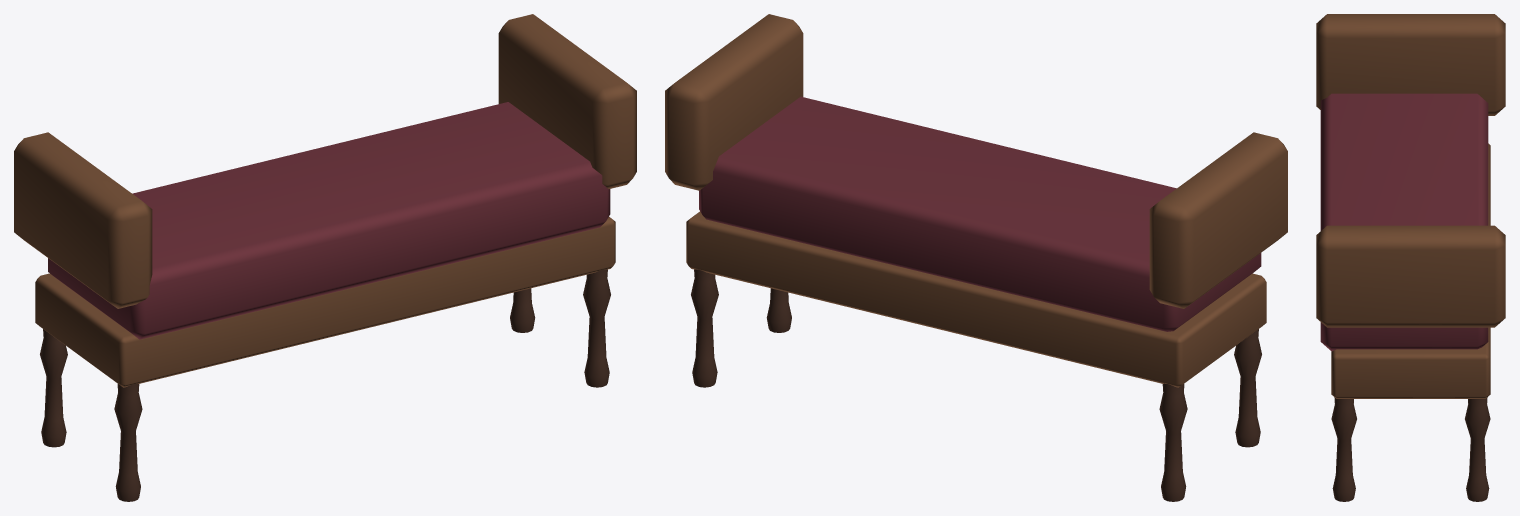
The model's file is rpg-mansion-bench-01.glb.
3 views of the same model, side by side, from view 1: azimuth 30°, elevation 25°; view 2: azimuth 150°, elevation 25°; view 3: azimuth 270°, elevation 25° (orthographic). The views are drawn at different scales.
Parts seen in each view (by area): view 1: rpg-mansion-bench-01; view 2: rpg-mansion-bench-01; view 3: rpg-mansion-bench-01.
Boxes of the visible parts, x1=… form: rpg-mansion-bench-01: x1=14, y1=14, x2=636, y2=501; rpg-mansion-bench-01: x1=665, y1=14, x2=1287, y2=501; rpg-mansion-bench-01: x1=1316, y1=14, x2=1505, y2=501.
Size of the model in its own units: 1.3 by 0.71 by 0.45.
